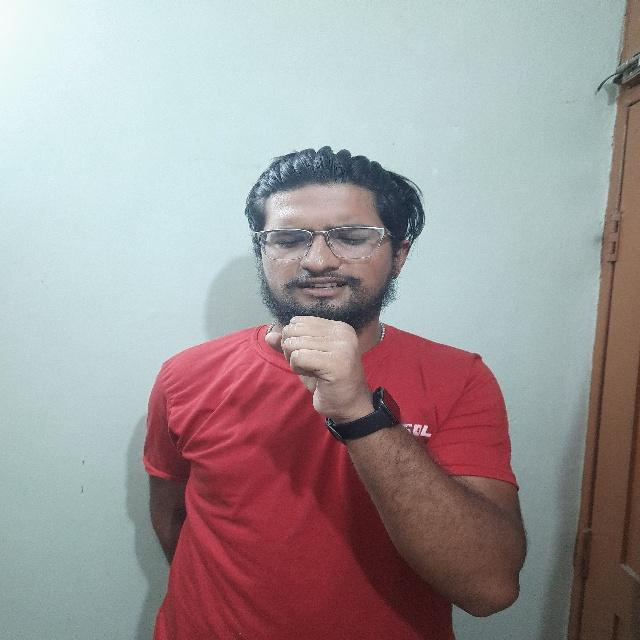Fist Mouth: (239, 144, 418, 422)
